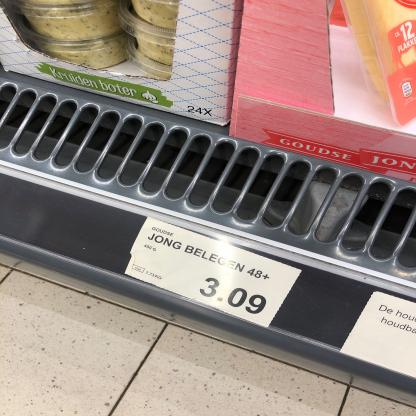prtg: (122, 218, 303, 329), (341, 291, 416, 380)
